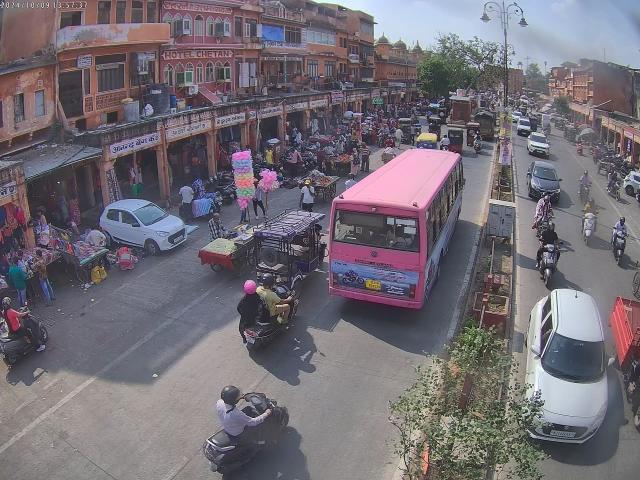auto: (255, 208, 325, 283), (446, 128, 464, 154)
bus: (326, 146, 464, 315)
car: (519, 288, 611, 449), (100, 202, 186, 252), (525, 160, 562, 200), (526, 132, 550, 156)
helmet: (219, 384, 242, 404), (258, 274, 276, 289), (242, 280, 258, 296), (0, 296, 12, 311), (547, 222, 555, 232), (620, 217, 626, 226), (544, 196, 550, 203), (590, 199, 594, 207), (584, 171, 589, 176), (612, 172, 618, 176)
license_plate: (549, 430, 576, 439), (366, 279, 382, 291), (547, 259, 554, 263)
motorbike-rider: (534, 193, 556, 235), (606, 169, 624, 197), (578, 170, 592, 202)
person: (31, 208, 50, 241), (177, 183, 195, 216)
scooty-rider: (201, 384, 293, 474), (234, 279, 298, 352), (0, 297, 44, 366), (535, 223, 563, 283), (608, 216, 630, 263), (580, 200, 598, 244), (574, 140, 586, 154)
vendor: (202, 213, 258, 276), (298, 168, 338, 202)
